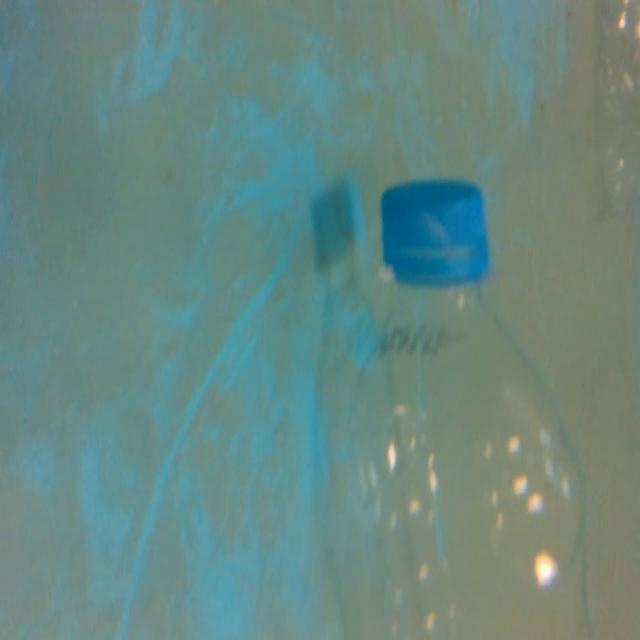plastic bottle: (321, 166, 596, 640)
